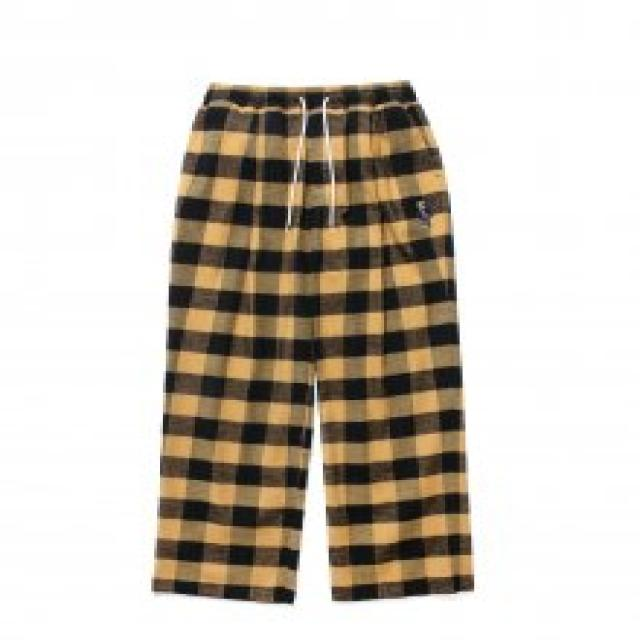long-pants: (143, 78, 483, 600)
